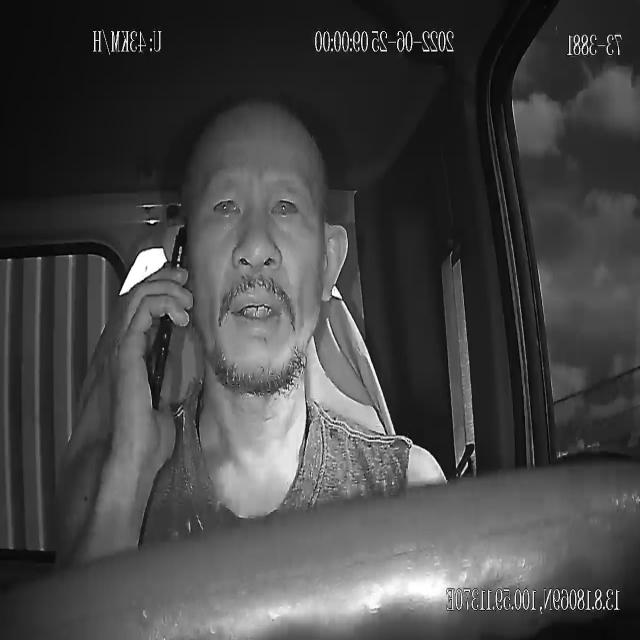phone: (150, 225, 188, 412)
